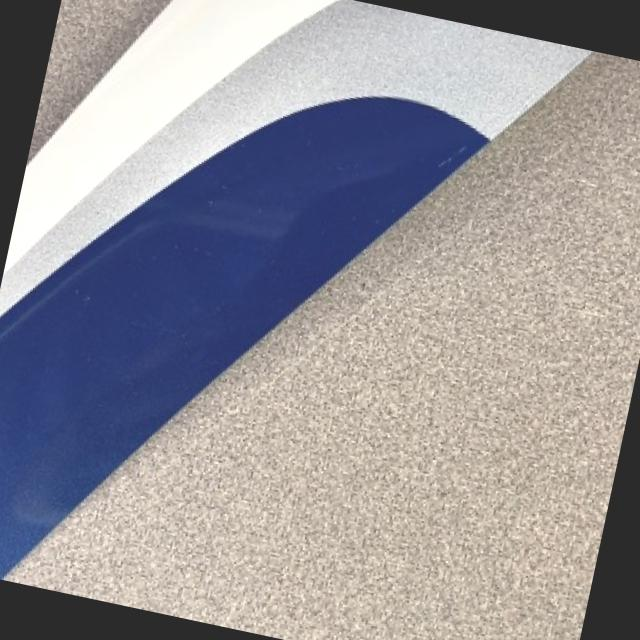healthy: (10, 52, 640, 640), (0, 0, 588, 578)
